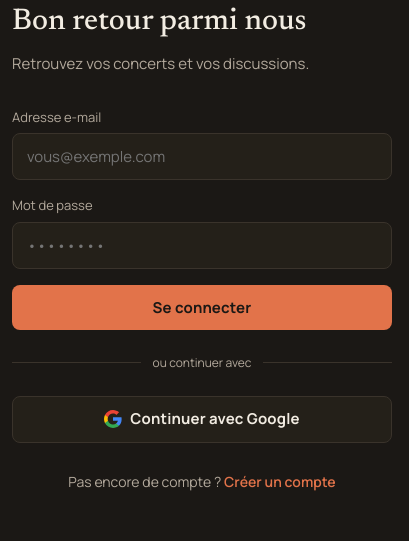
Test: LoginSignupForm › affiche un message d'erreur si la connexion échoue
Type "ana@example.com" into the field labelled "Adresse e-mail" at (202, 156), box [12,133,392,180]
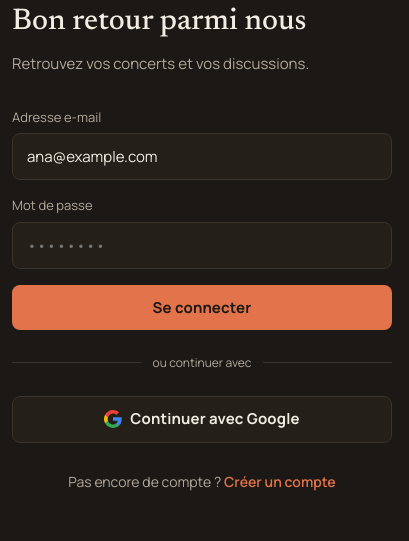
Type "wrong" into the password field labelled "Mot de passe" at (202, 245), box [12,222,392,268]
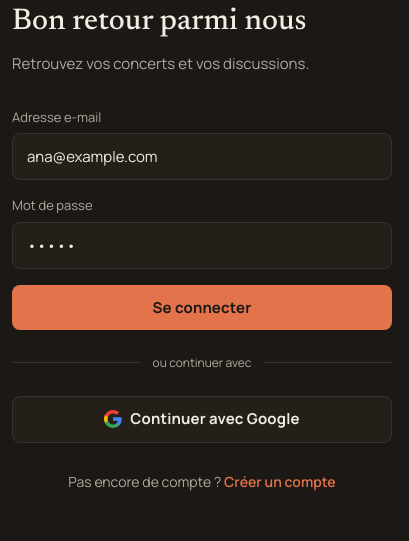
Click the button "Se connecter" at (202, 307), box [12,284,392,330]
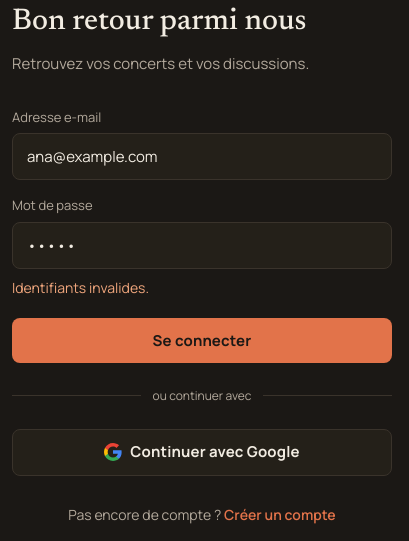
Now the message reads "Identifiants invalides.", box [12,278,149,296]
